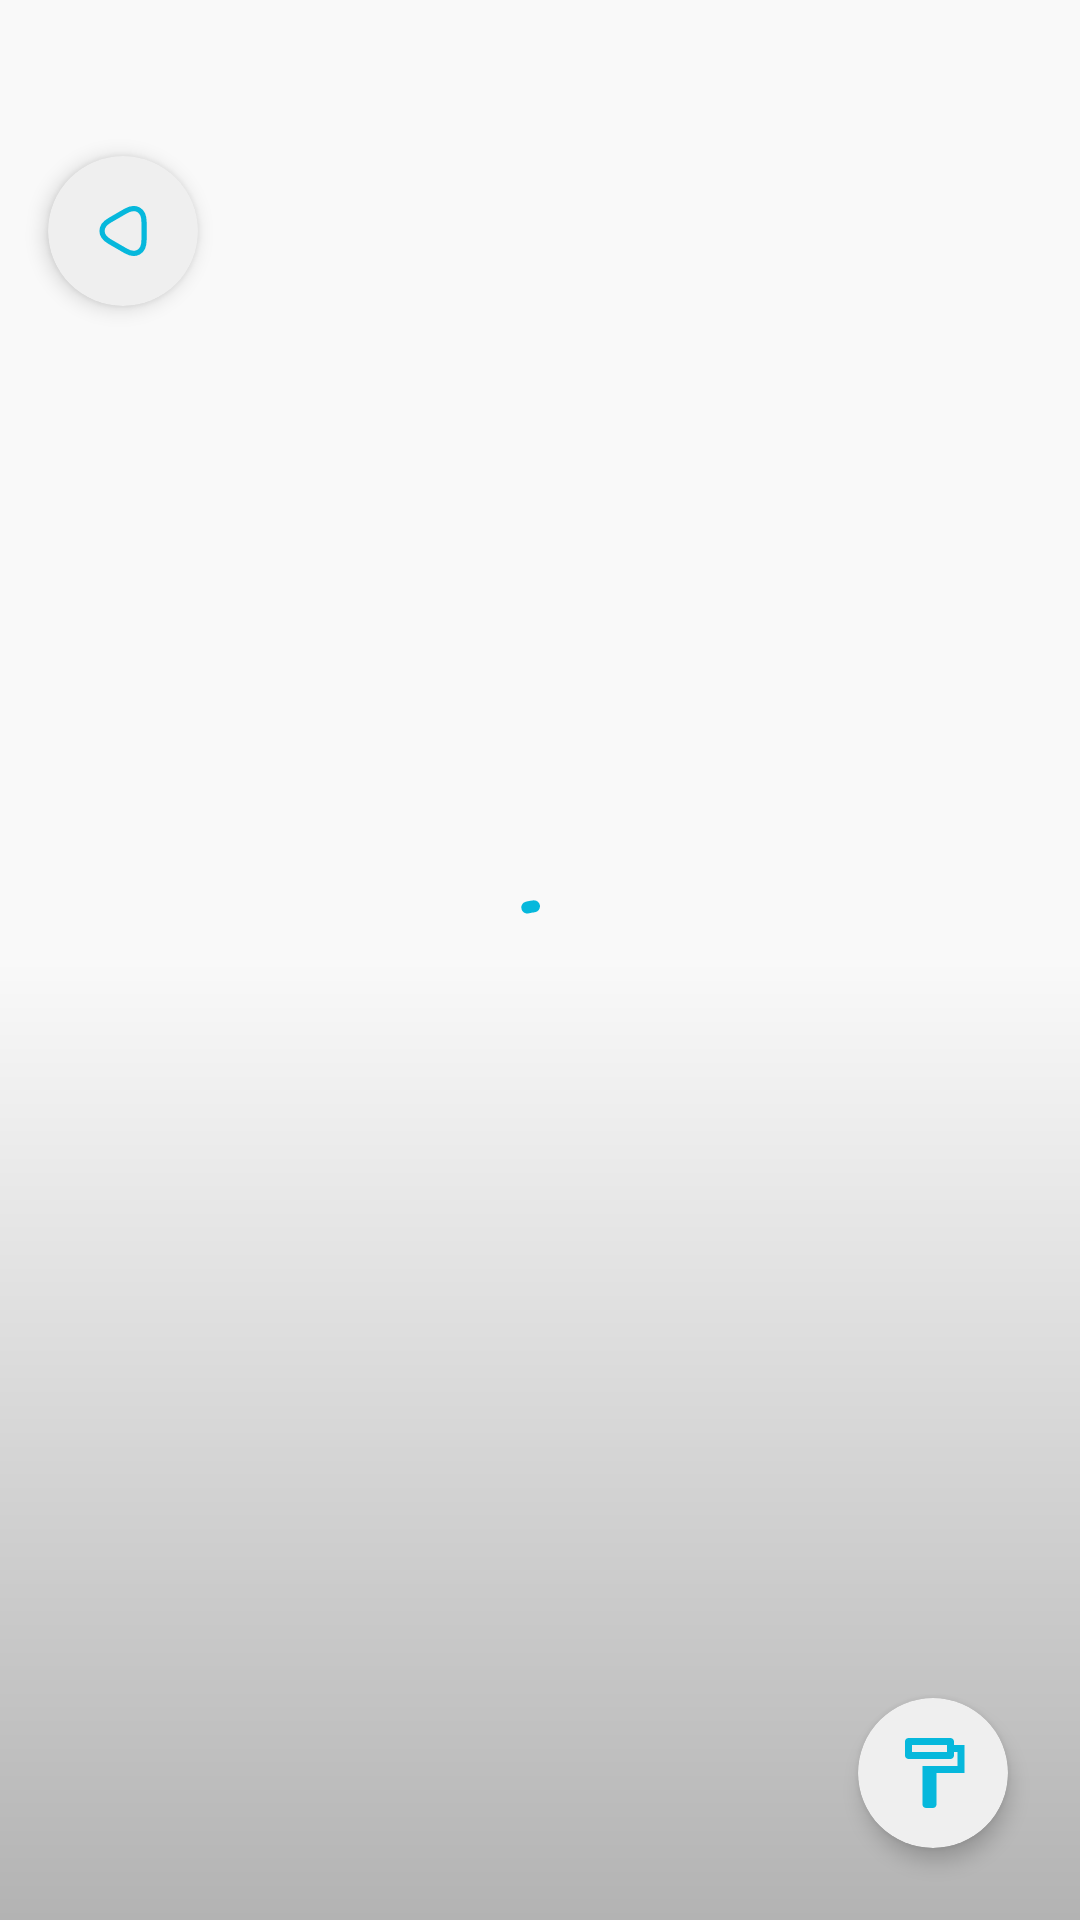

Screen size 1080×1920. Icon name, then its center in pixels as (x=x, y=y):
apply: (x=935, y=1773)
arrow left: (x=123, y=231)
